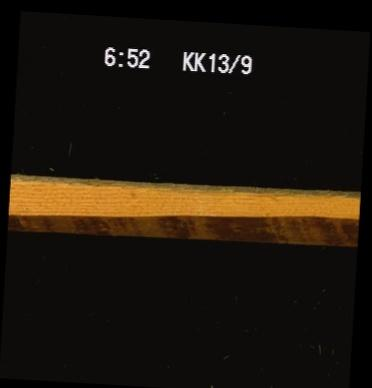wave: (7, 218, 357, 240), (15, 179, 358, 200)
